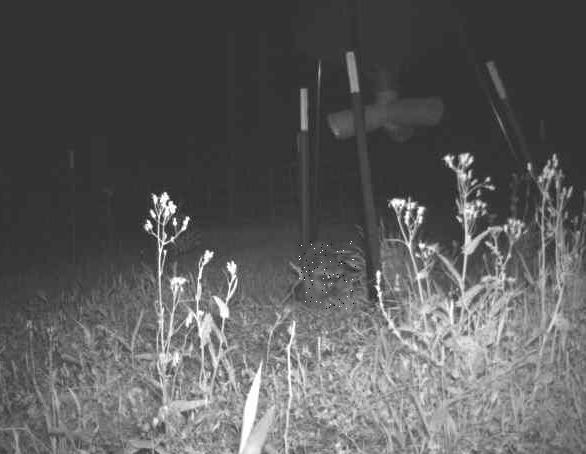Raccoon: (298, 241, 356, 309)
